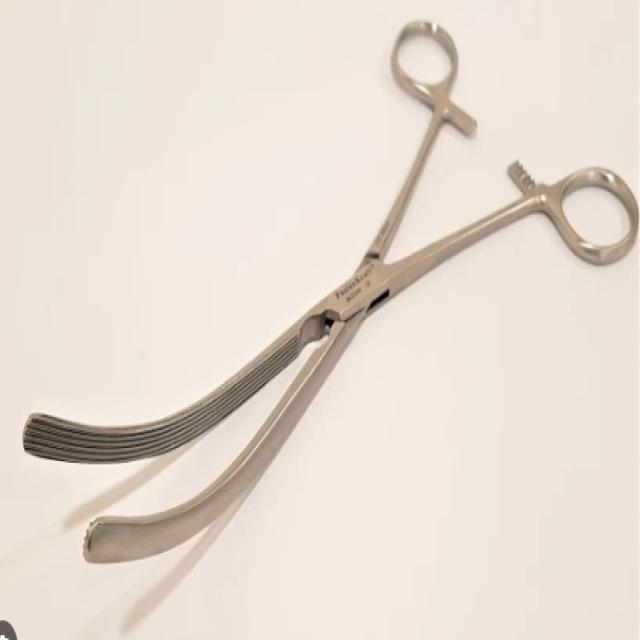Doyel Instestinal Forceps: (22, 14, 640, 574)
